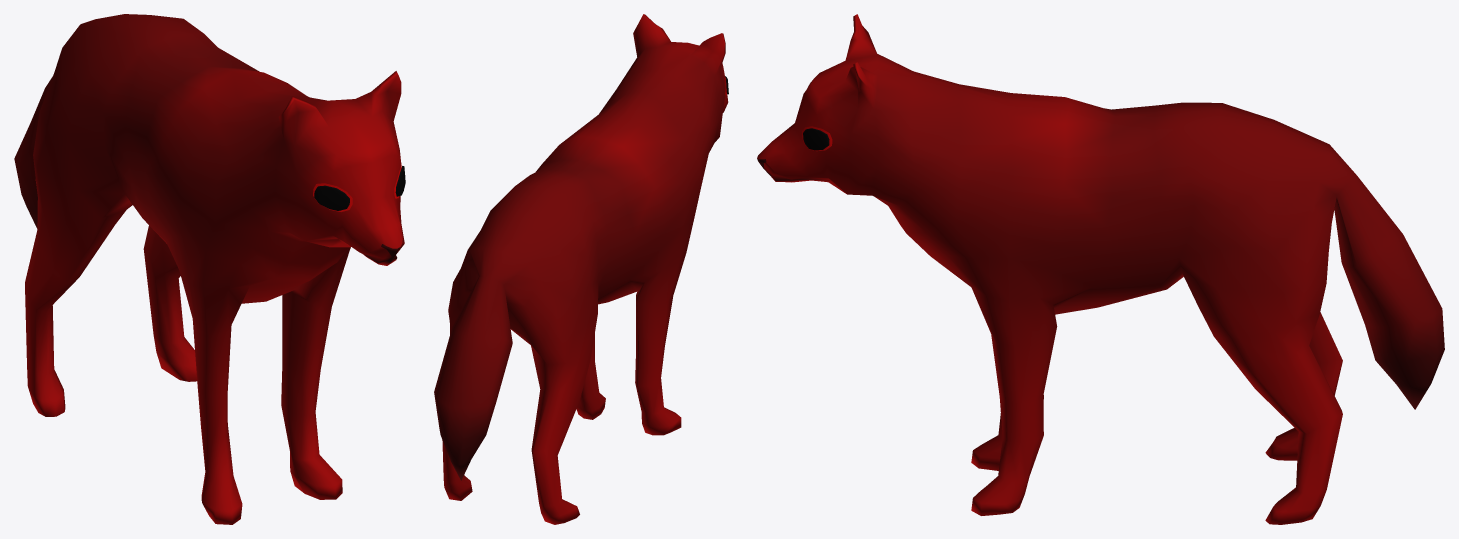
File: Animals_Coyote.fbx
The picture shows the model from 3 angles, left to right: view 1: azimuth 30°, elevation 25°; view 2: azimuth 150°, elevation 25°; view 3: azimuth 270°, elevation 25°; orthographic projection. The views are drawn at different scales.
Visible parts, largest first — view 1: base; view 2: base; view 3: base.
Part boxes in pixels (x1,y1,x2,y2): base: (14, 14, 405, 524); base: (434, 14, 728, 524); base: (757, 14, 1444, 524).
Bounding box in the file's own units: 39.76 × 107 × 148.
